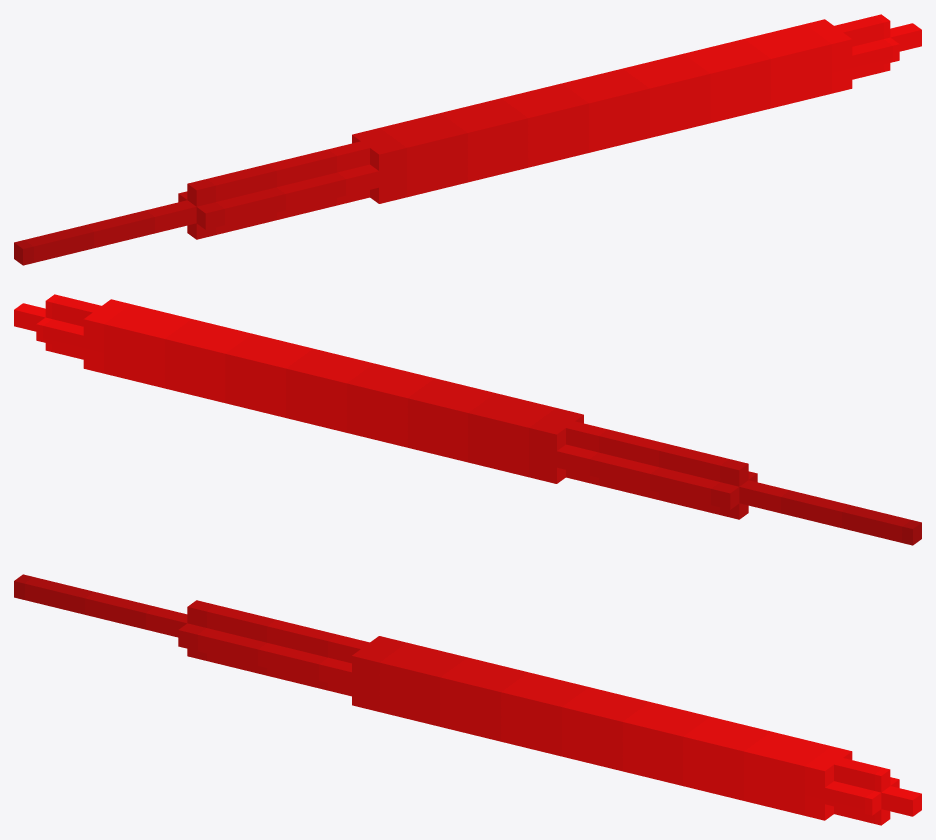
Rendered from projetil.glb.
3 renders of one model, top to bottom at view 1: azimuth 30°, elevation 25°; view 2: azimuth 150°, elevation 25°; view 3: azimuth 330°, elevation 25°, orthographic.
Parts seen in each view (by area): view 1: Sphere; view 2: Sphere; view 3: Sphere.
Boxes of the visible parts, x1,y1,x2,y2 form: Sphere: (14, 14, 921, 265); Sphere: (14, 294, 921, 545); Sphere: (14, 574, 921, 825).
Bounding box in the file's own units: 33.29 × 1.75 × 1.75.
1 material, 1 textured.
